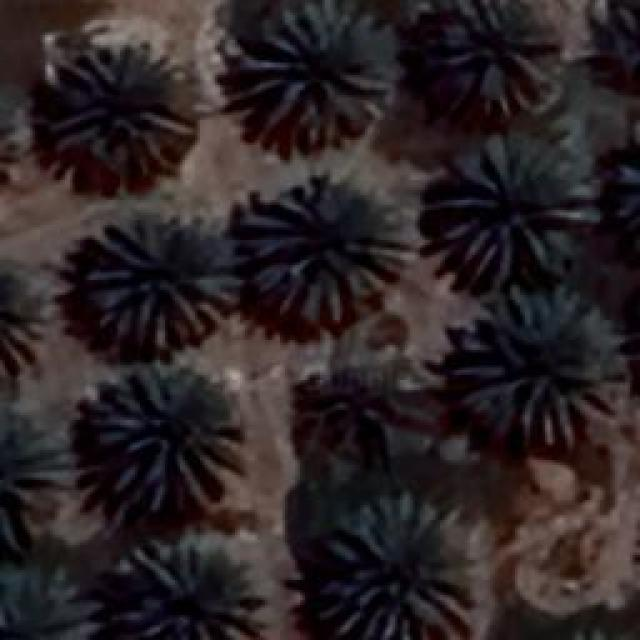PalmTree: (235, 170, 420, 325), (455, 285, 623, 450), (235, 0, 395, 150), (85, 362, 240, 516), (310, 494, 472, 638), (435, 132, 585, 282), (80, 215, 238, 350), (45, 42, 193, 180), (432, 0, 558, 118), (302, 346, 426, 462), (122, 542, 268, 638), (0, 422, 75, 536), (1, 562, 104, 640), (574, 0, 640, 93), (590, 131, 640, 248), (24, 118, 49, 325), (0, 84, 16, 201)
